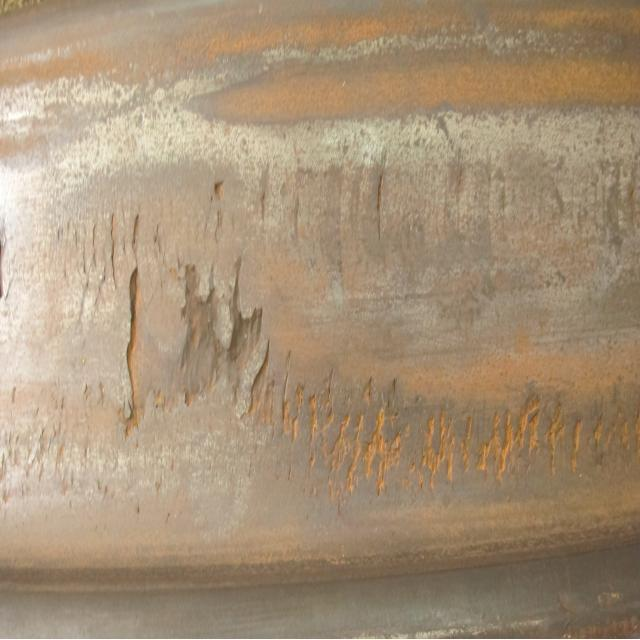Blue hole: (179, 252, 272, 421)
Brake_Thermal_Cracks: (126, 216, 139, 435), (347, 380, 370, 501), (330, 406, 351, 491), (288, 386, 302, 485), (321, 370, 335, 469), (281, 349, 292, 443), (56, 398, 66, 489), (308, 394, 316, 490), (294, 189, 302, 260), (486, 169, 492, 262), (261, 168, 270, 229), (93, 223, 101, 287), (377, 168, 383, 250), (111, 213, 117, 292), (457, 169, 463, 244), (204, 197, 214, 240), (63, 223, 70, 282), (83, 224, 89, 283)
